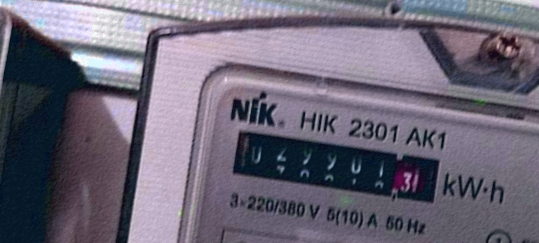0: (347, 150, 366, 177), (247, 141, 265, 165)
1: (374, 154, 389, 180)
2: (273, 140, 291, 164)
3: (397, 170, 415, 195)
9: (323, 149, 339, 173), (299, 144, 314, 166)
screen: (223, 121, 450, 215)
